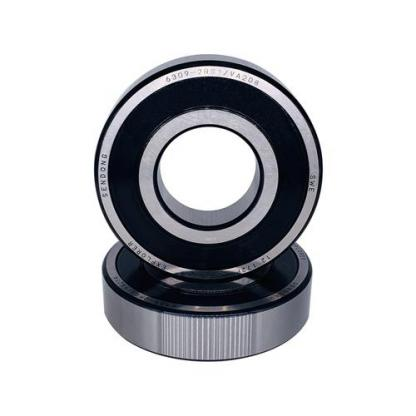FOD: (88, 50, 330, 287), (101, 232, 312, 362)
